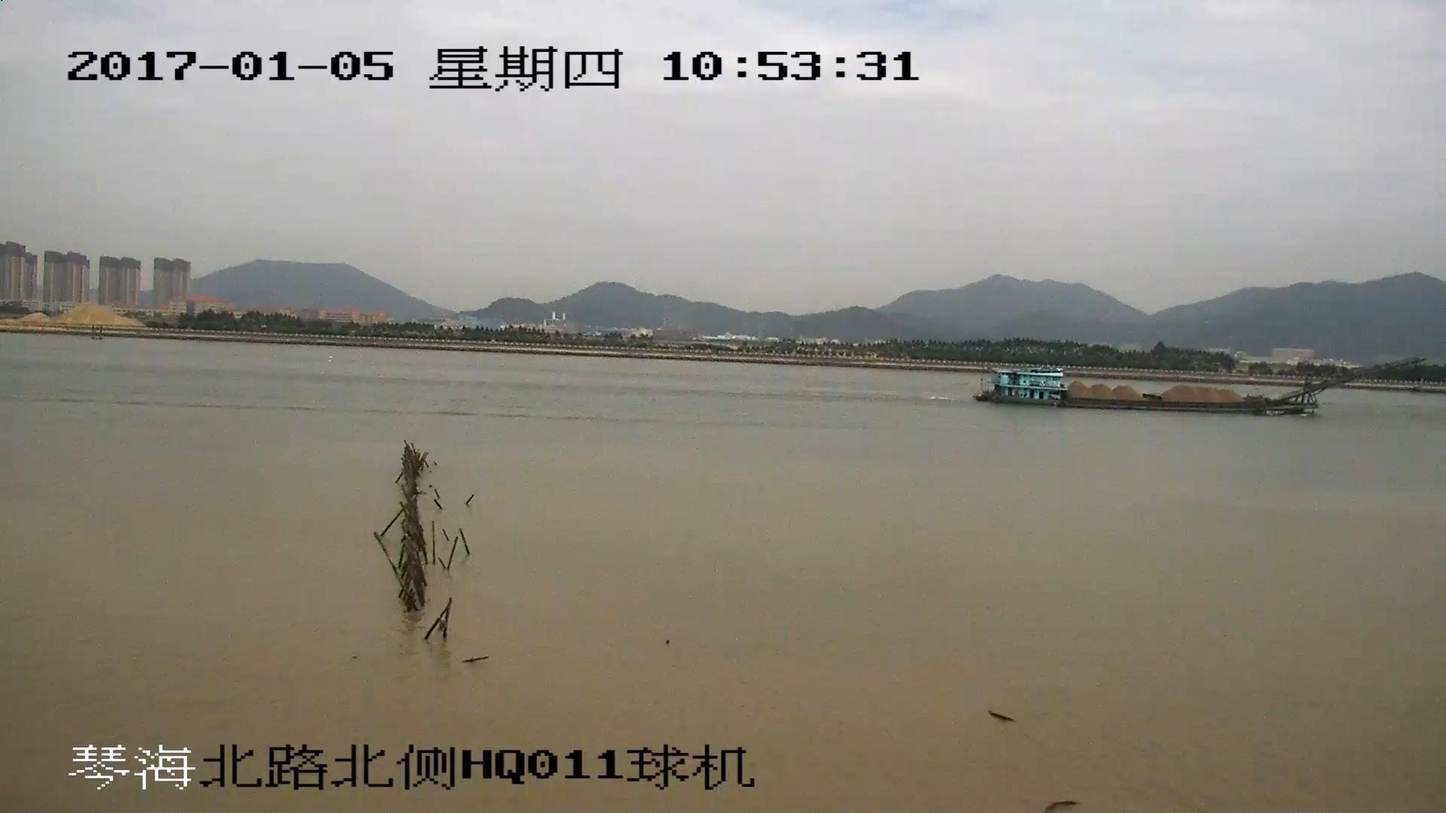ore carrier: (978, 356, 1418, 415)
